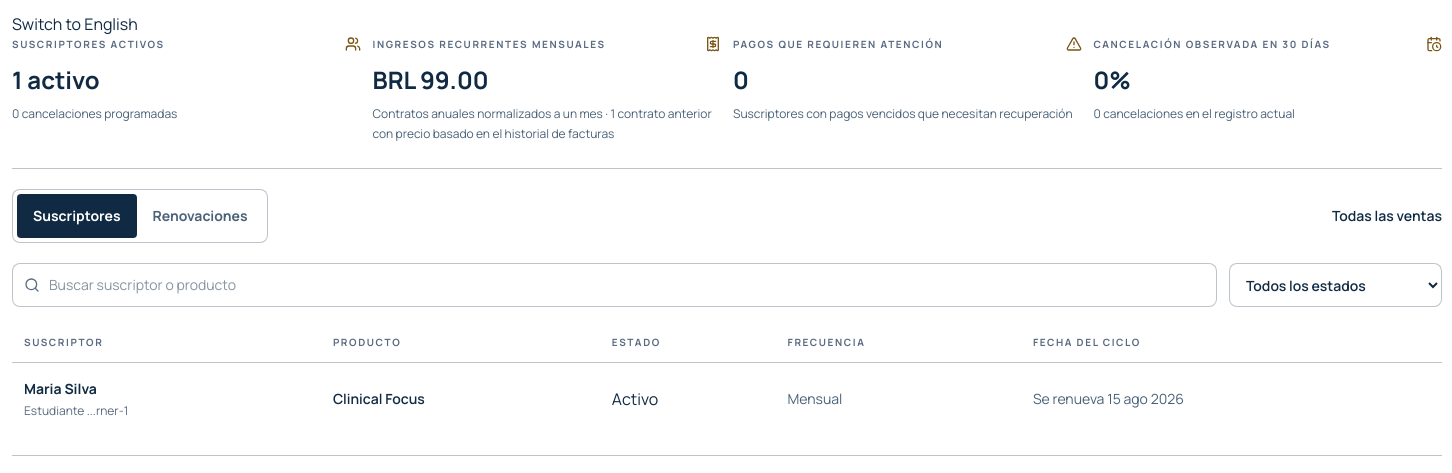
it: jornada de assinaturas no idioma da pessoa › traduz a renovação settled mantendo o valor e o estado
Click the tab "Renovaciones". click: click(200, 216)
box: [136, 194, 263, 238]
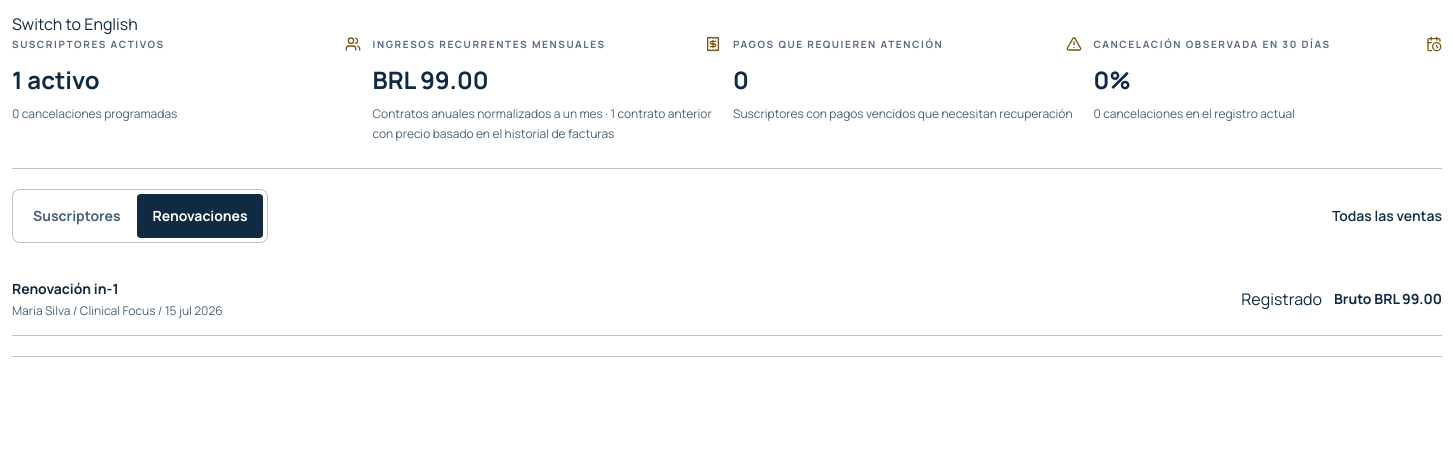
Expected: the text "Bruto BRL 99.00" is shown, [1334, 289, 1442, 309]
